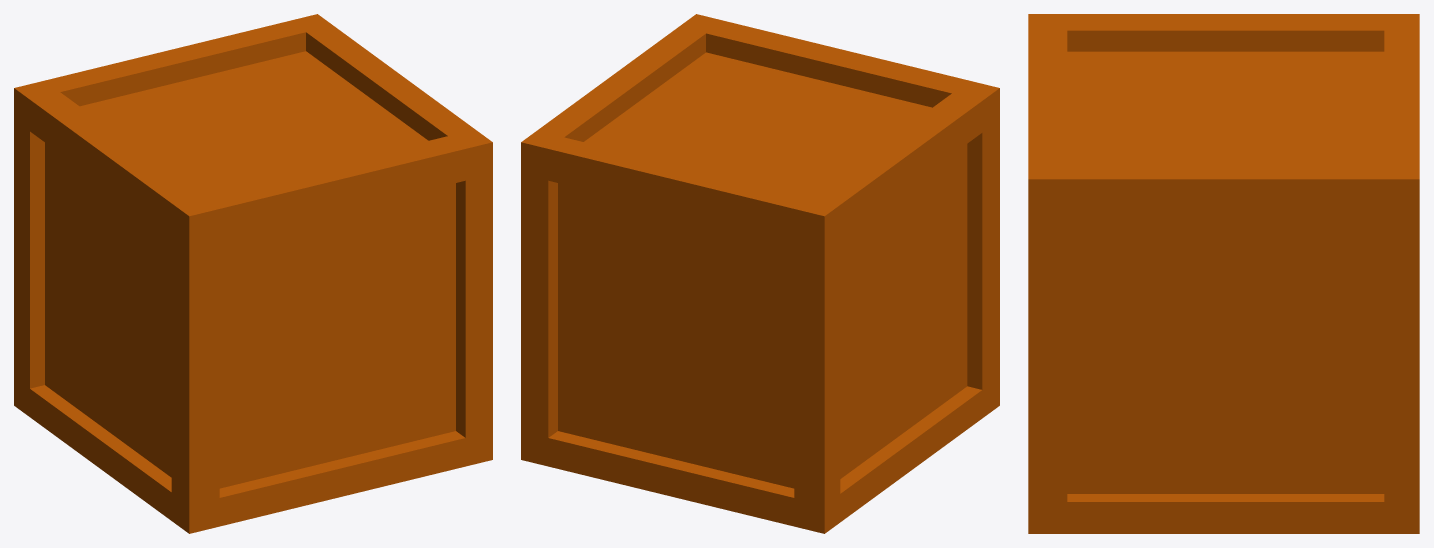
The model's file is redcrate.fbx.
3 views of the same model, side by side, from view 1: azimuth 30°, elevation 25°; view 2: azimuth 150°, elevation 25°; view 3: azimuth 270°, elevation 25° (orthographic). The views are drawn at different scales.
Parts seen in each view (by area): view 1: pCube1; view 2: pCube1; view 3: pCube1.
Part boxes in pixels (left/top/right/bottom): pCube1: left=14, top=14, right=492, bottom=533; pCube1: left=521, top=14, right=999, bottom=533; pCube1: left=1028, top=14, right=1419, bottom=533.
Size of the model in its own units: 59.63 by 59.63 by 59.63.
